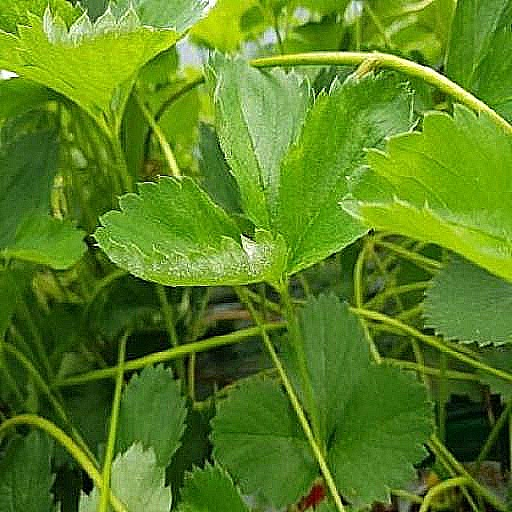Powdery Mildew Leaf: (221, 175, 422, 288), (200, 48, 306, 232)
